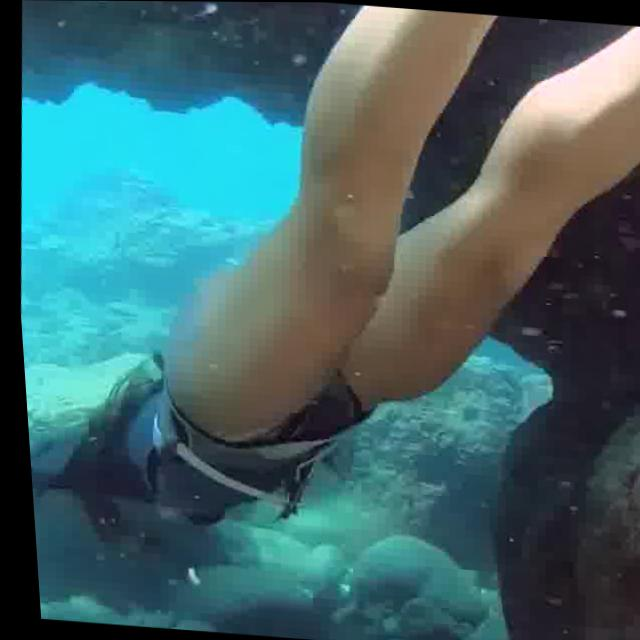human: (0, 0, 640, 599)
